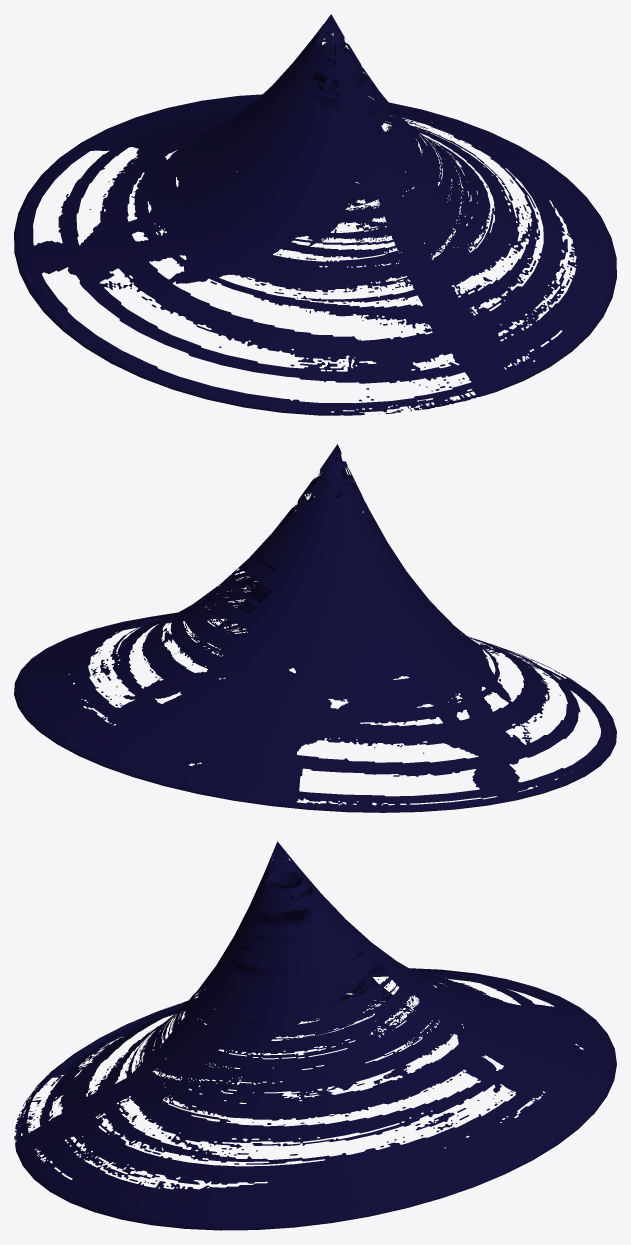
File: Vortex.FBX
3 views of the same model, one above another, from view 1: azimuth 30°, elevation 25°; view 2: azimuth 150°, elevation 25°; view 3: azimuth 270°, elevation 25° (orthographic).
Parts seen in each view (by area): view 1: Linie001; view 2: Linie001; view 3: Linie001.
Part boxes in pixels (x1,y1,x2,y2): Linie001: [14, 14, 616, 415]; Linie001: [14, 444, 616, 812]; Linie001: [14, 841, 616, 1230].
Size of the model in its own units: 126 by 67.62 by 126.
